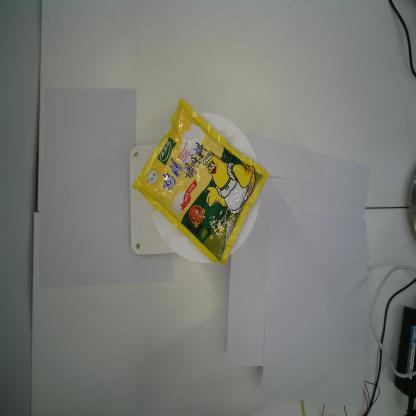Seasoner: (132, 97, 269, 263)
